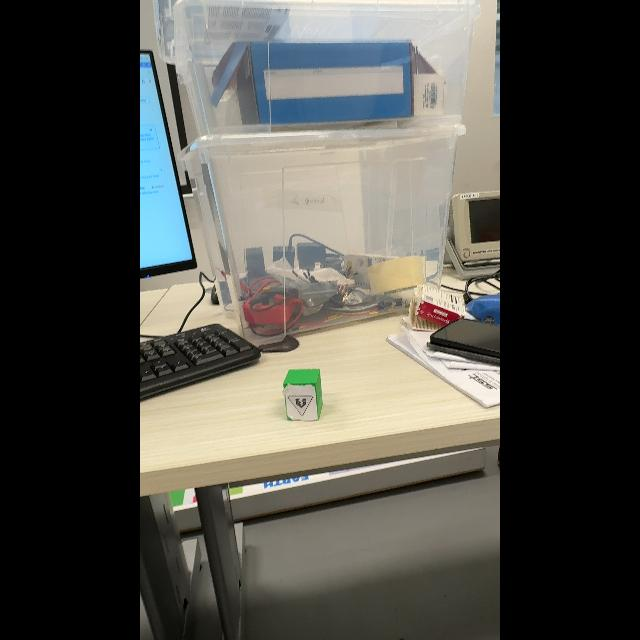Earthquake: (288, 396, 313, 416)
